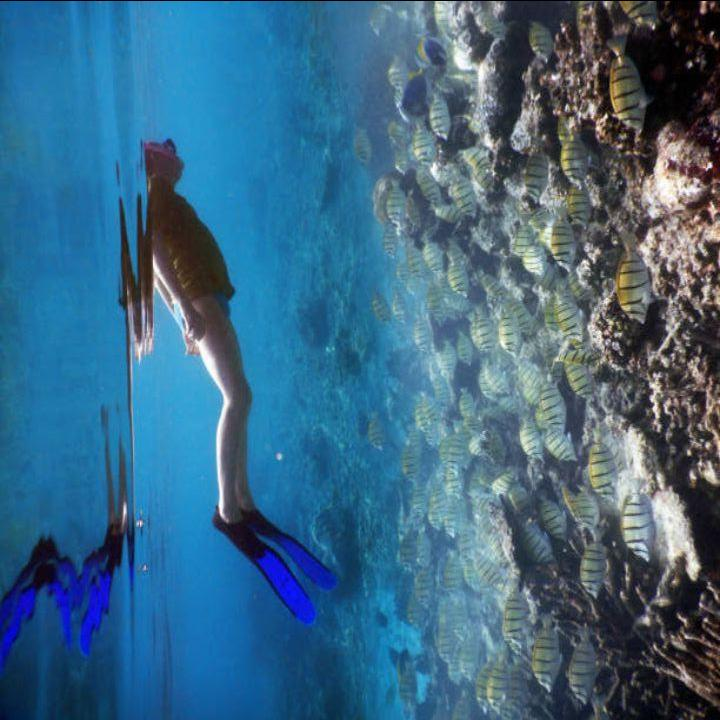Dead Coral: (541, 19, 715, 694)
